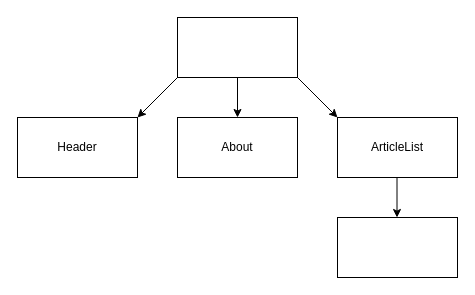
Image size: 475x295. Some labels were removed from this diagram. The shapes that lost their labels are listed below. From the top down, each one's centre as x and y in pixels, then its label:
point 237,47: App
point 397,247: Article
